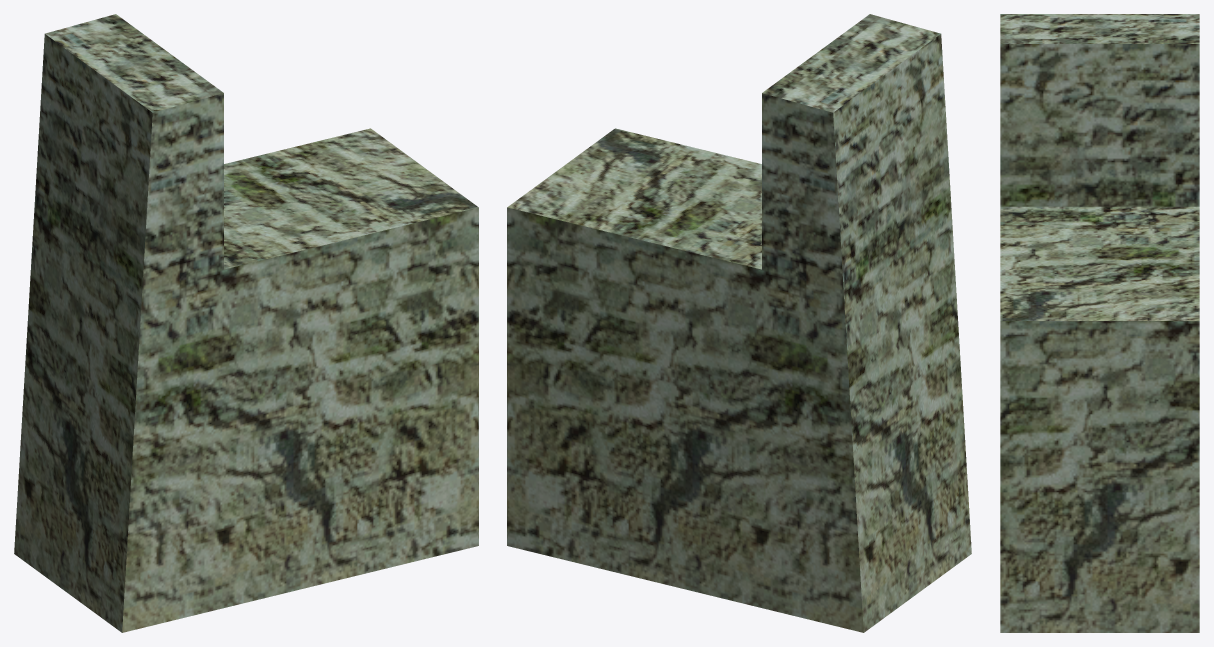
The model's file is Tnwall2.glb.
The picture shows the model from 3 angles, left to right: view 1: azimuth 30°, elevation 25°; view 2: azimuth 150°, elevation 25°; view 3: azimuth 270°, elevation 25°; orthographic projection. The views are drawn at different scales.
Parts seen in each view (by area): view 1: Tnwall2; view 2: Tnwall2; view 3: Tnwall2.
Boxes of the visible parts, x1,y1,x2,y2 form: Tnwall2: (14, 14, 478, 632); Tnwall2: (507, 14, 971, 632); Tnwall2: (1000, 14, 1199, 632).
Bounding box in the file's own units: 3.92 × 5.41 × 2.06.
1 material, 1 textured.
